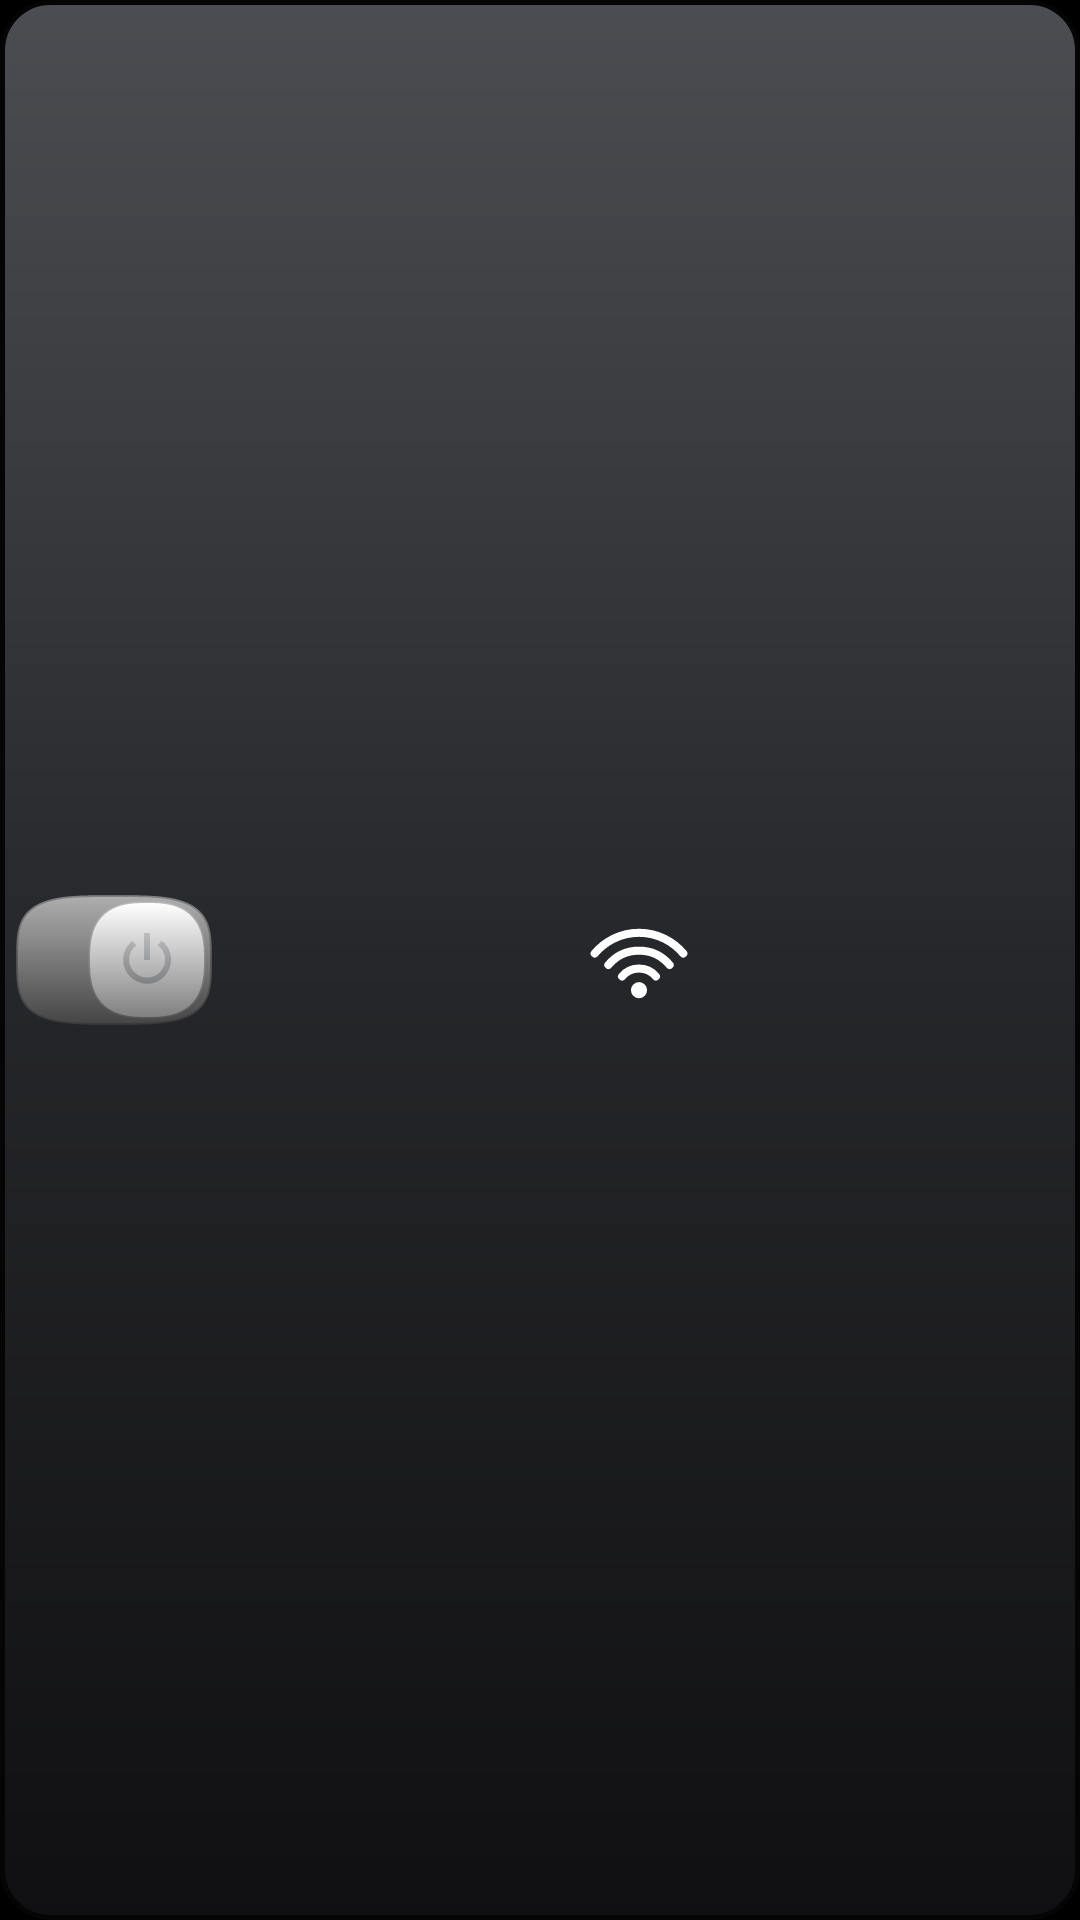

Named icons in this screenshot (1080 × 1920) and their bounding boxes, (x1, y1, x2, y2):
glyph wifi: (590, 928, 688, 999)
